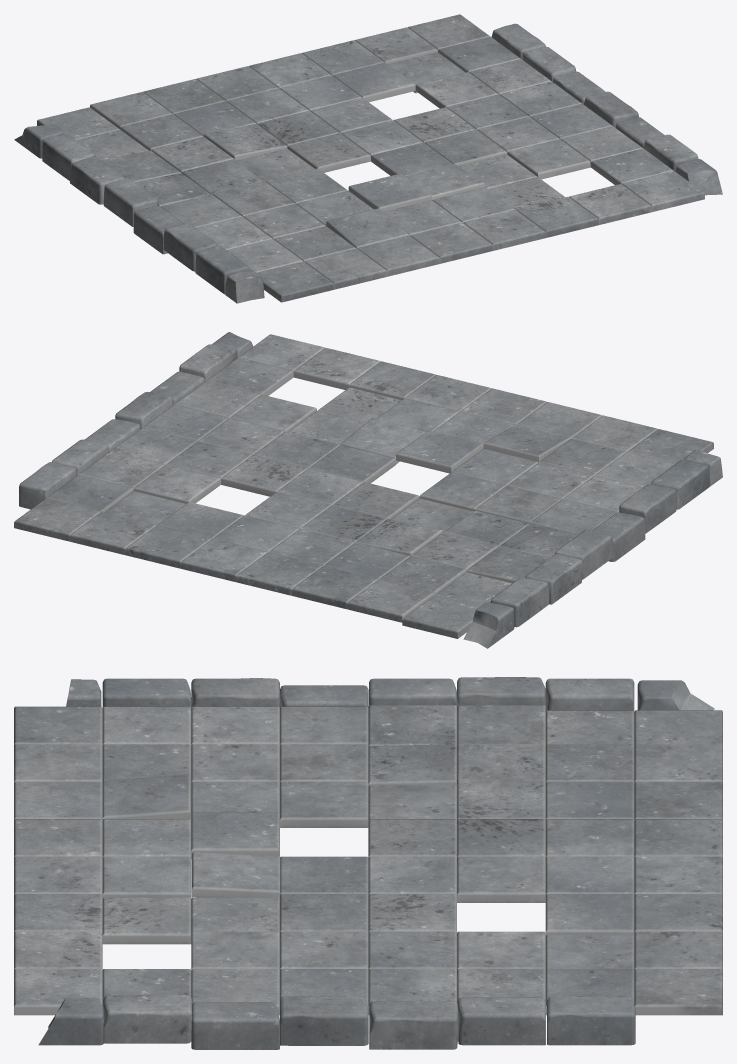
Rendered from road_tile_01.fbx.
The picture shows the model from 3 angles, top to bottom: view 1: azimuth 30°, elevation 25°; view 2: azimuth 150°, elevation 25°; view 3: azimuth 270°, elevation 25°; orthographic projection. The views are drawn at different scales.
Parts seen in each view (by area): view 1: road_tile_01; view 2: road_tile_01; view 3: road_tile_01.
Boxes of the visible parts, left/top/right/bottom form: road_tile_01: left=14, top=14, right=722, bottom=303; road_tile_01: left=14, top=332, right=722, bottom=648; road_tile_01: left=14, top=677, right=722, bottom=1049.
Bounding box in the file's own units: 18.09 × 1 × 16.
